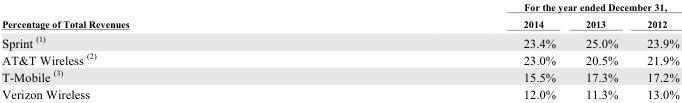table: (1, 0, 678, 100)
table column: (1, 0, 325, 100), (325, 0, 570, 100), (570, 0, 631, 100), (631, 0, 678, 100)
table column header: (1, 0, 678, 31)
table row: (1, 31, 678, 50), (1, 67, 678, 85), (1, 14, 678, 31), (1, 50, 678, 67), (1, 85, 678, 100), (1, 0, 678, 14)
table spanning cell: (1, 0, 325, 31), (325, 0, 678, 14)
